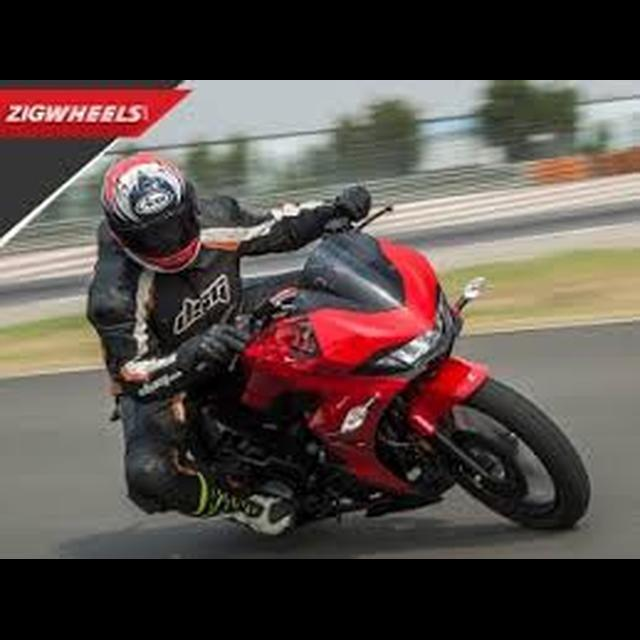motorcycle: (107, 199, 596, 538)
